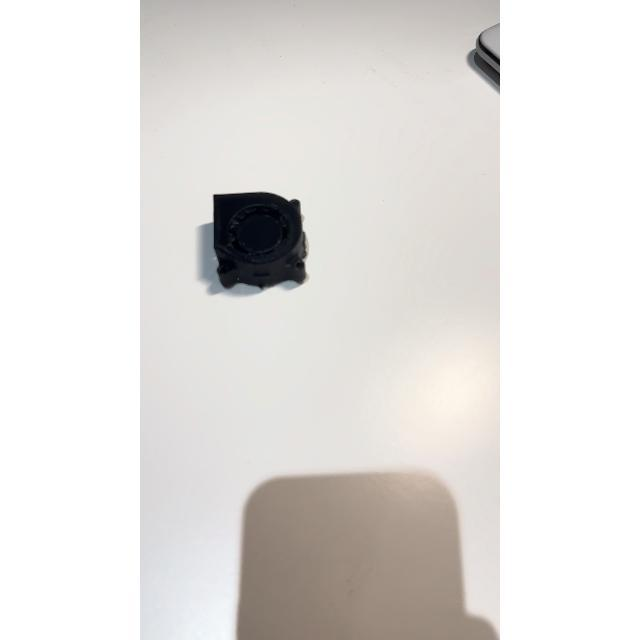Pieza3: (202, 184, 320, 304)
